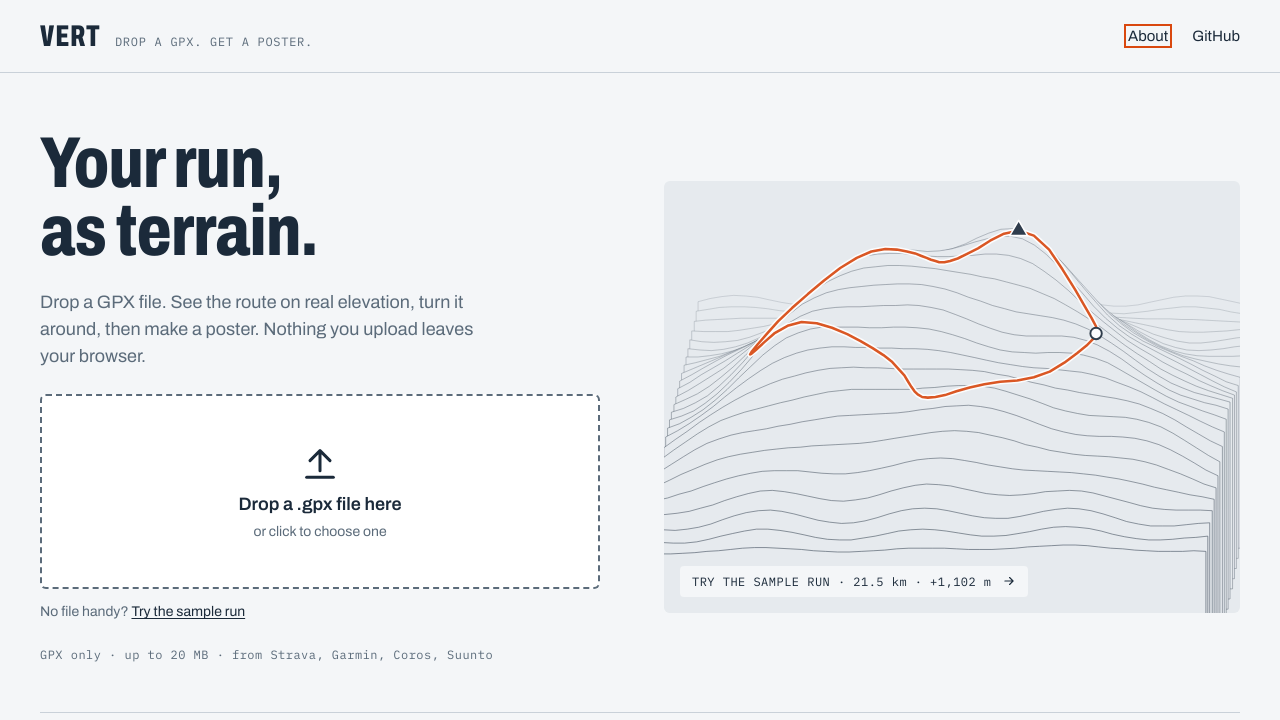
Test: AboutDialog › closes with the Close button and returns focus to About
What coordinates should you click on to do the following:
click the button "About"
I would click on:
 (1148, 36)
Its box is [1128,28,1168,44].
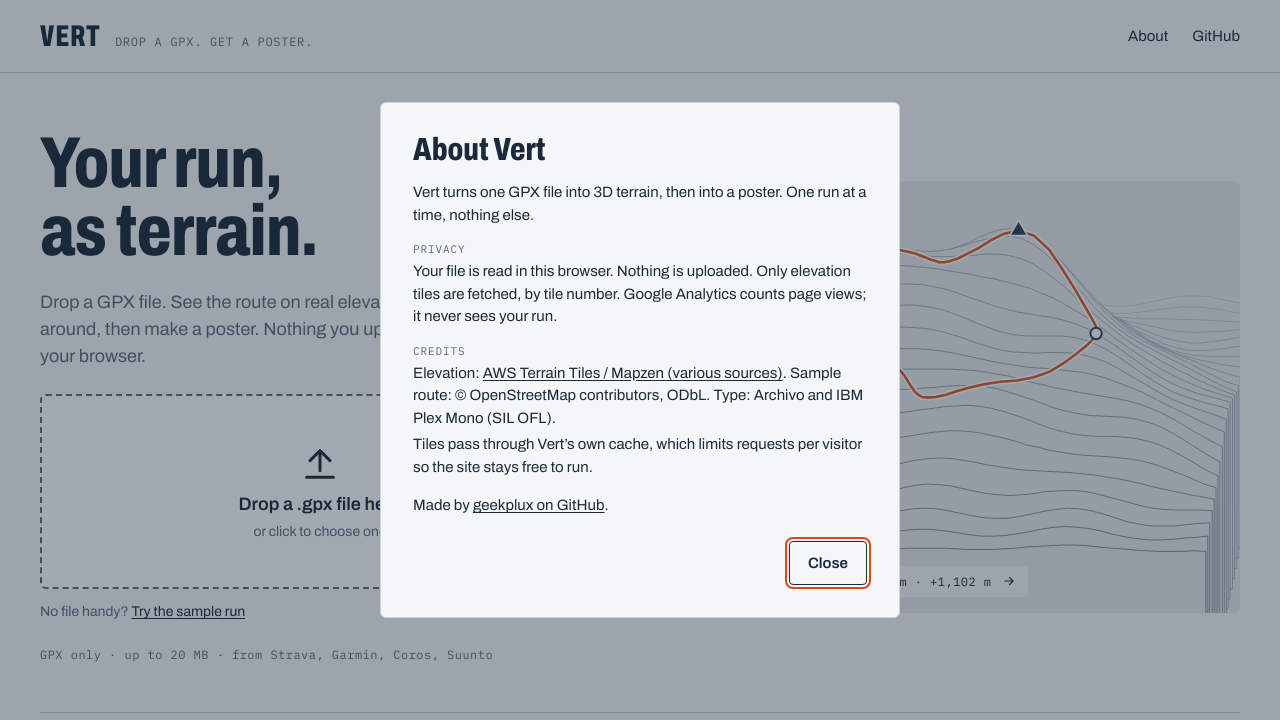
What coordinates should you click on to do the following:
click the button "Close"
I would click on:
 (828, 563)
Its box is [789,541,867,585].
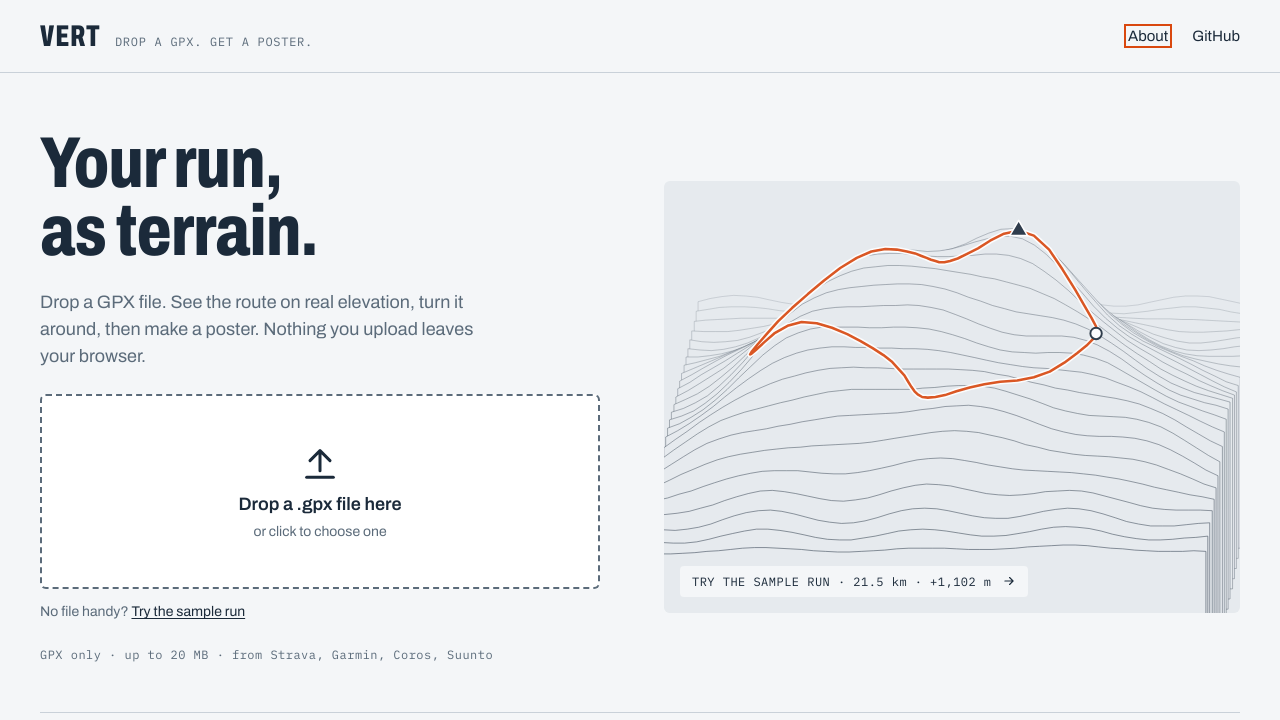
Now the dialog is gone
